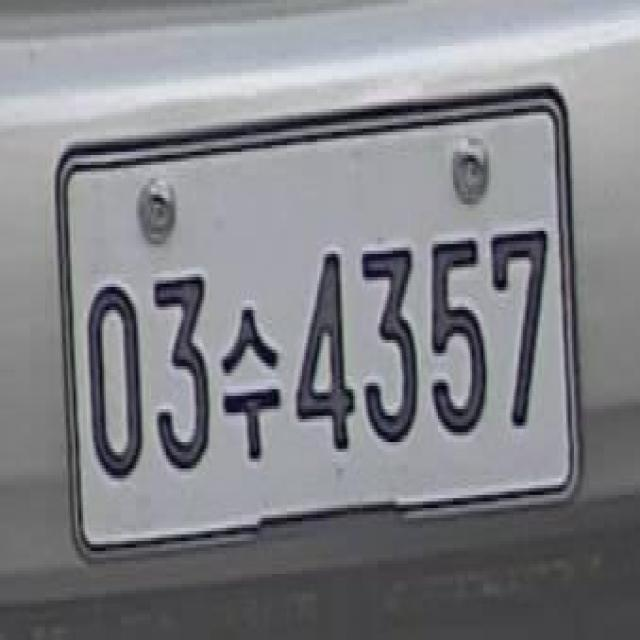illegal_plate: (61, 95, 584, 564)
